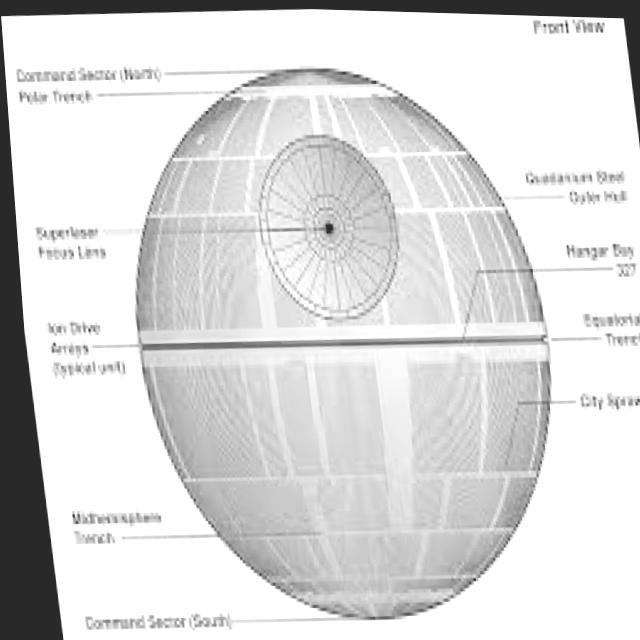death-stars: (129, 64, 549, 620)
